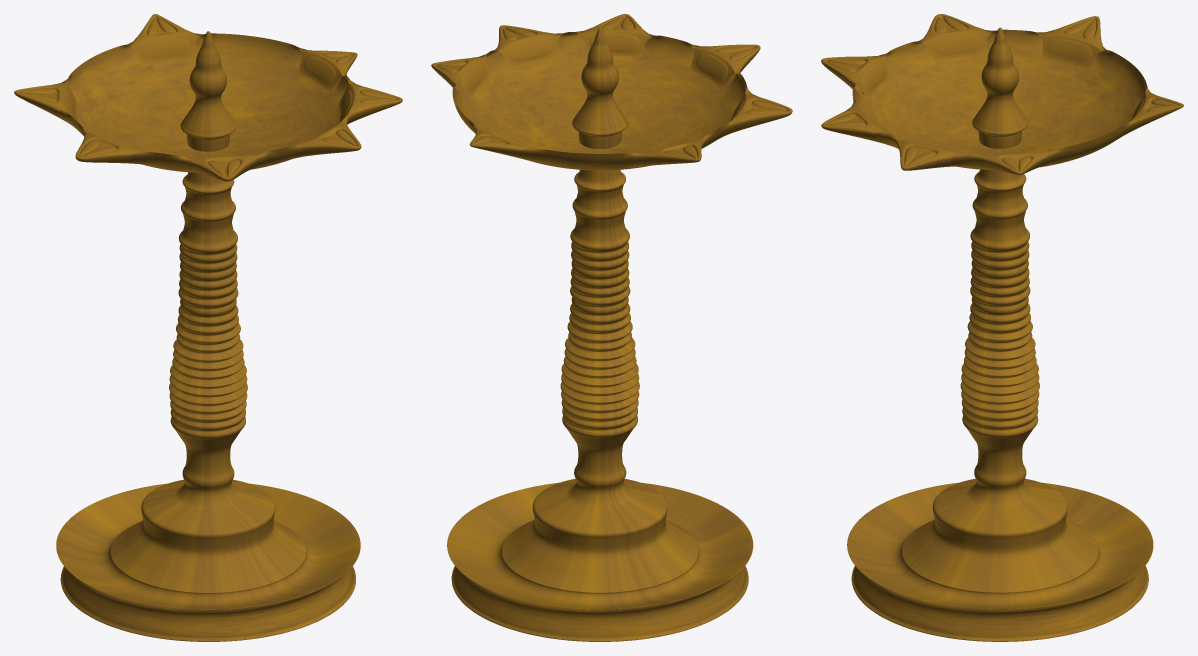
3 renders of one model, left to right at view 1: azimuth 30°, elevation 25°; view 2: azimuth 150°, elevation 25°; view 3: azimuth 270°, elevation 25°, orthographic.
Visible parts, largest first — view 1: Cylinder, Sphere; view 2: Cylinder, Sphere; view 3: Cylinder, Sphere.
Boxes of the visible parts, box(x1,y1,x2,y2) form: Cylinder: box(56, 31, 360, 641); Sphere: box(14, 14, 402, 181); Cylinder: box(447, 28, 753, 641); Sphere: box(431, 14, 792, 170); Cylinder: box(847, 27, 1153, 641); Sphere: box(821, 14, 1183, 174).
Bounding box in the file's own units: 2.45 × 4.04 × 2.4.
1 material, 1 textured.
